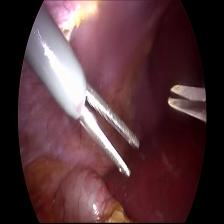Grasper: (68, 79, 142, 179)
Scissors: (166, 79, 211, 129)
